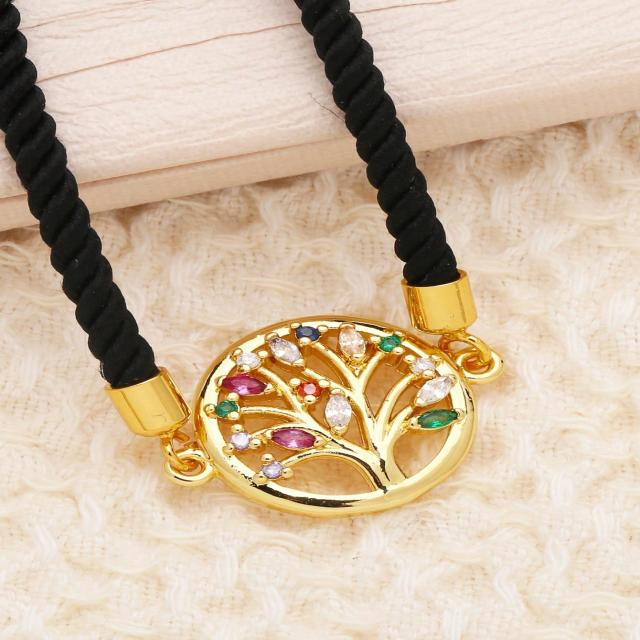bracelet: (5, 0, 601, 552)
